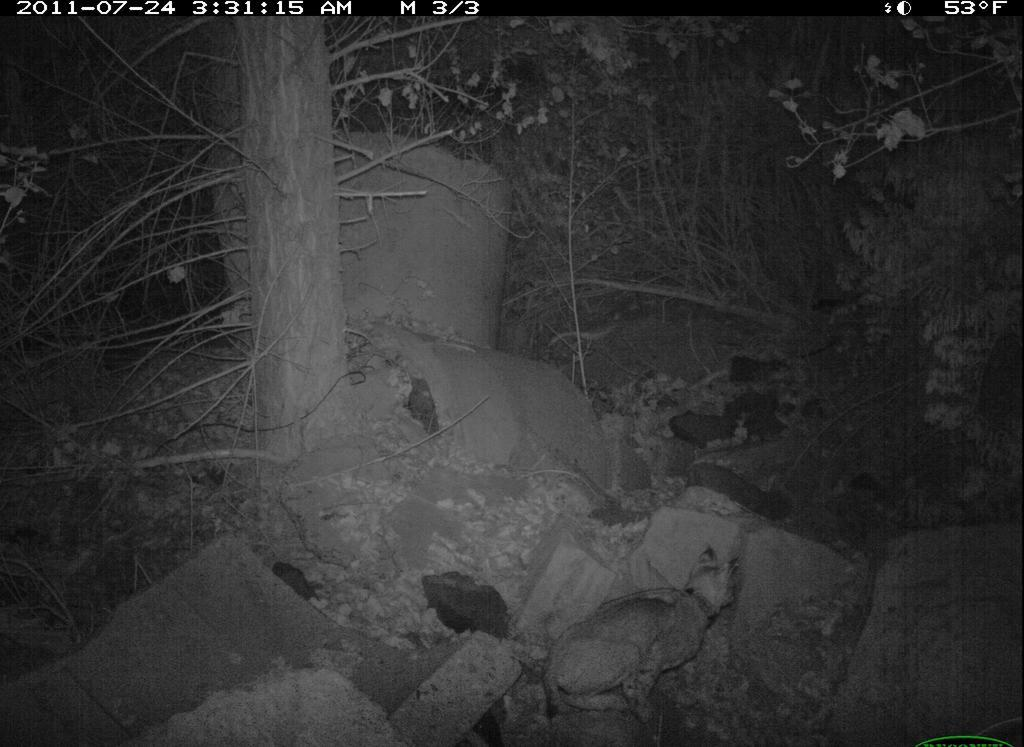bobcat: (533, 536, 763, 739)
